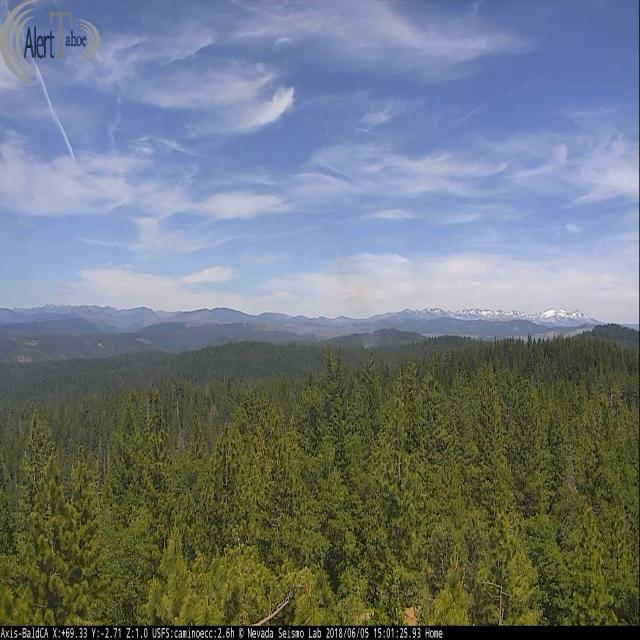smoke: (360, 327, 380, 350)
